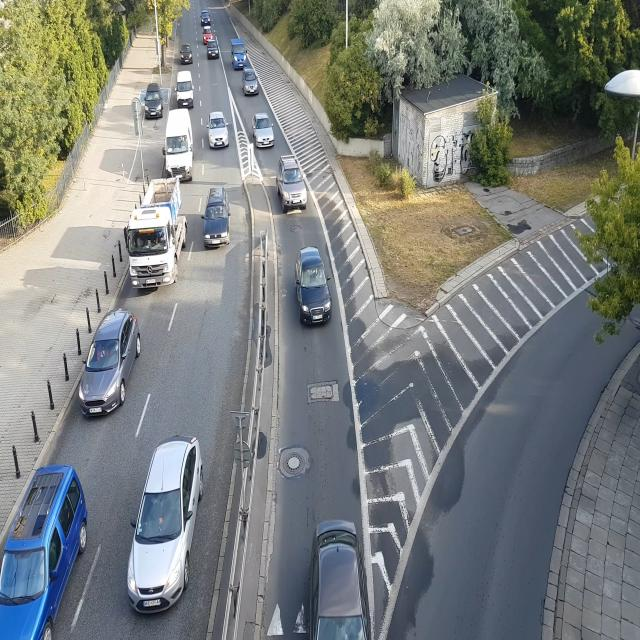car: (0, 465, 86, 640), (122, 440, 204, 613), (308, 518, 372, 640), (72, 316, 138, 414), (291, 251, 332, 329), (166, 105, 193, 173), (202, 187, 231, 248), (275, 156, 309, 208), (208, 105, 229, 154), (252, 113, 274, 149), (143, 86, 165, 120), (228, 35, 247, 70), (242, 68, 260, 101), (177, 72, 193, 106), (205, 40, 220, 60), (181, 41, 193, 64), (200, 9, 210, 23), (204, 26, 212, 38)
truck: (124, 183, 183, 290)
